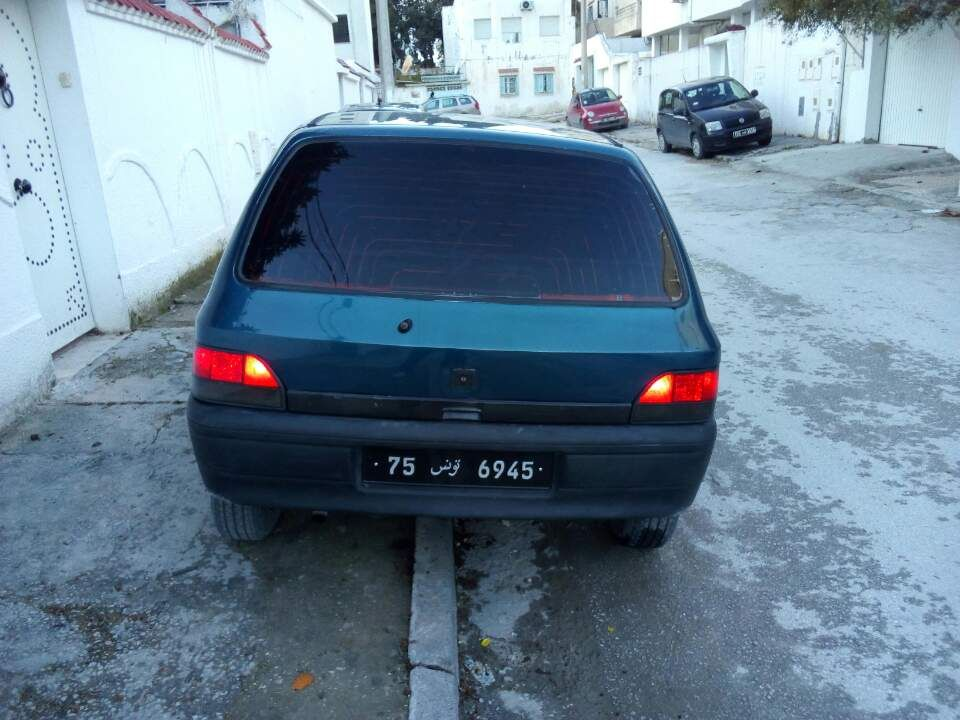LP: (359, 443, 554, 490)
